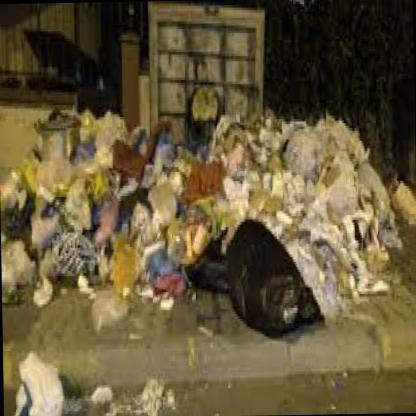Garbage: (0, 167, 118, 298), (222, 113, 336, 245), (220, 210, 326, 342), (304, 176, 414, 300), (120, 154, 208, 298), (87, 120, 152, 235)
